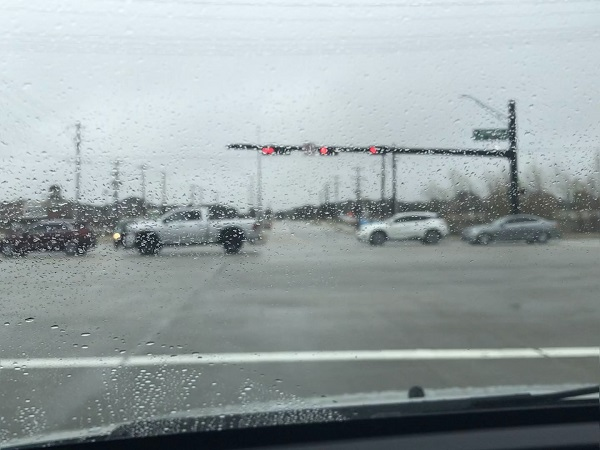car: (357, 210, 448, 246), (463, 212, 557, 246), (18, 218, 95, 256)
traffic light: (365, 144, 381, 158), (259, 144, 277, 155), (317, 146, 327, 157)
truck: (124, 209, 259, 254)
